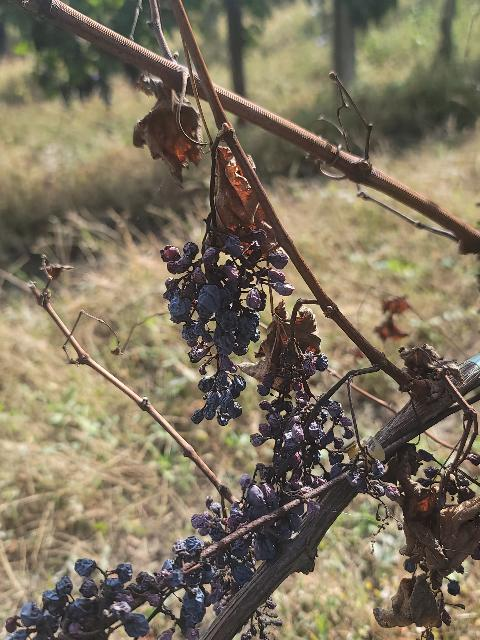grapes: (161, 228, 291, 425), (5, 536, 218, 640), (245, 330, 354, 520)
